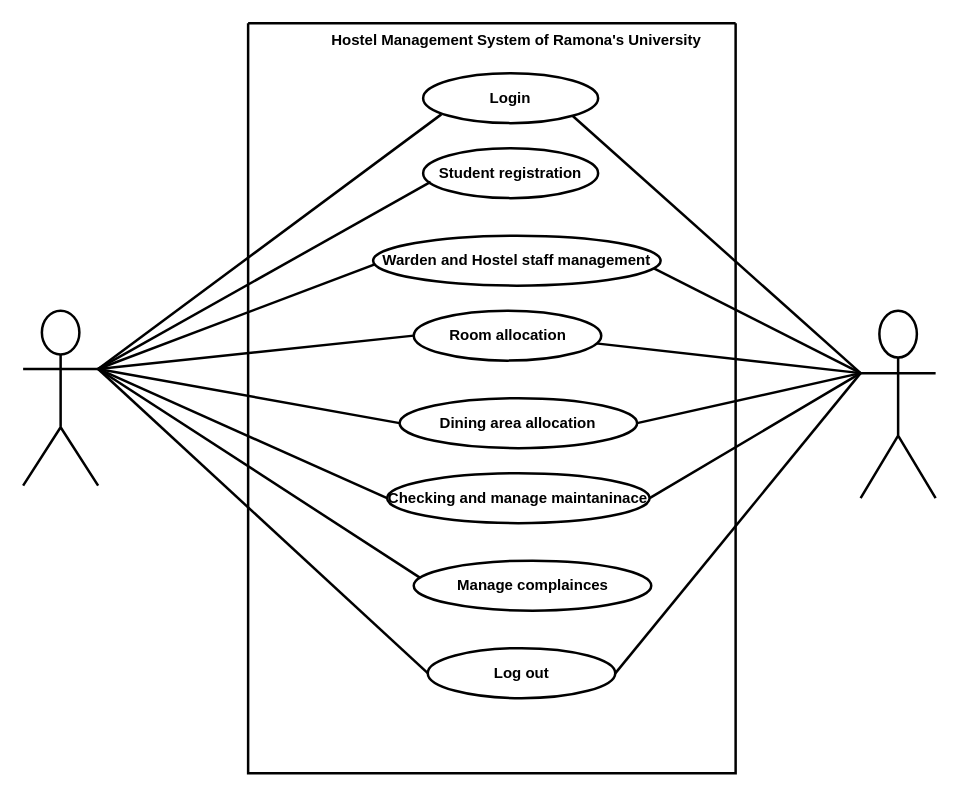
This 963x795 diagram has some shape labels left out. The box of each missing label's shape, as (x1, y1, x2, y2) in pixels:
Hostel_Staff: (859, 309, 936, 499)
Warden: (21, 309, 99, 486)
